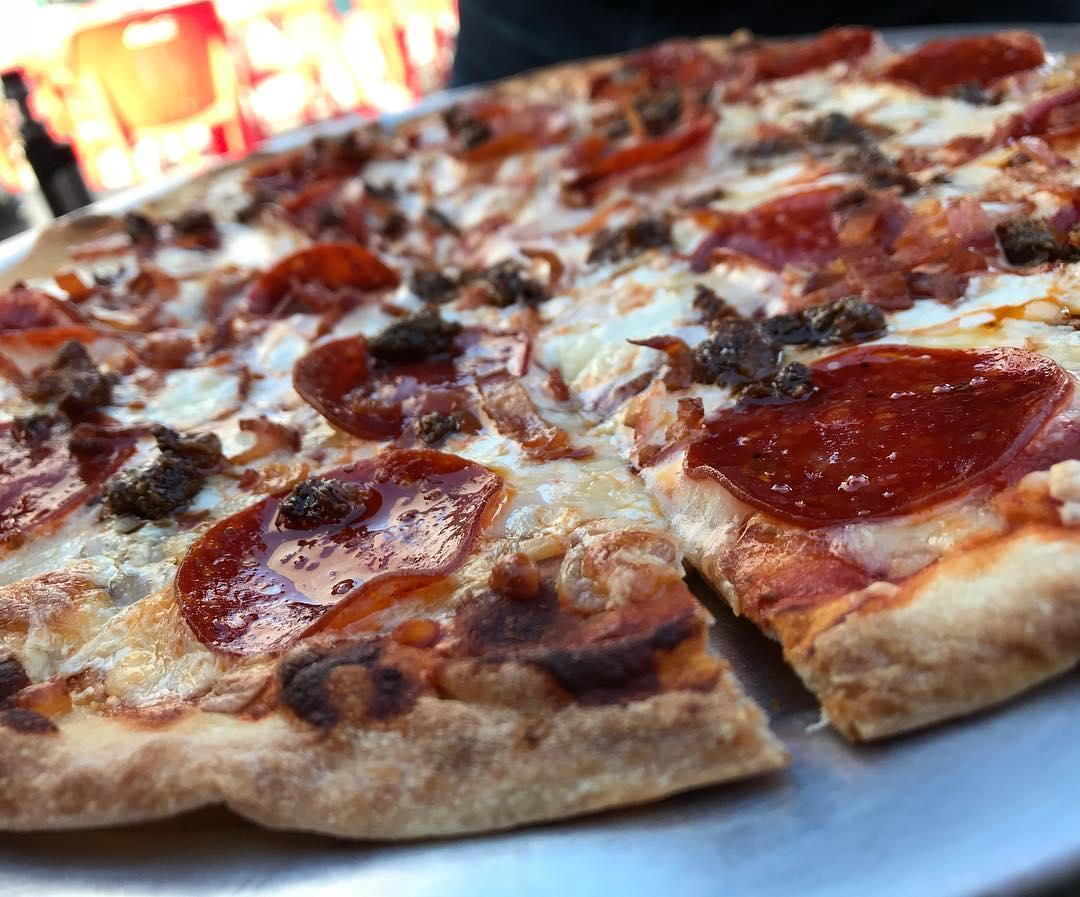Pepperoni: (688, 343, 1066, 529), (174, 450, 504, 656), (688, 187, 922, 272), (293, 335, 476, 438), (0, 255, 182, 356), (0, 410, 131, 546), (722, 24, 878, 106), (565, 113, 718, 187), (893, 24, 1046, 96), (248, 241, 398, 306), (452, 86, 564, 164)
Pizza: (0, 24, 1080, 838)
